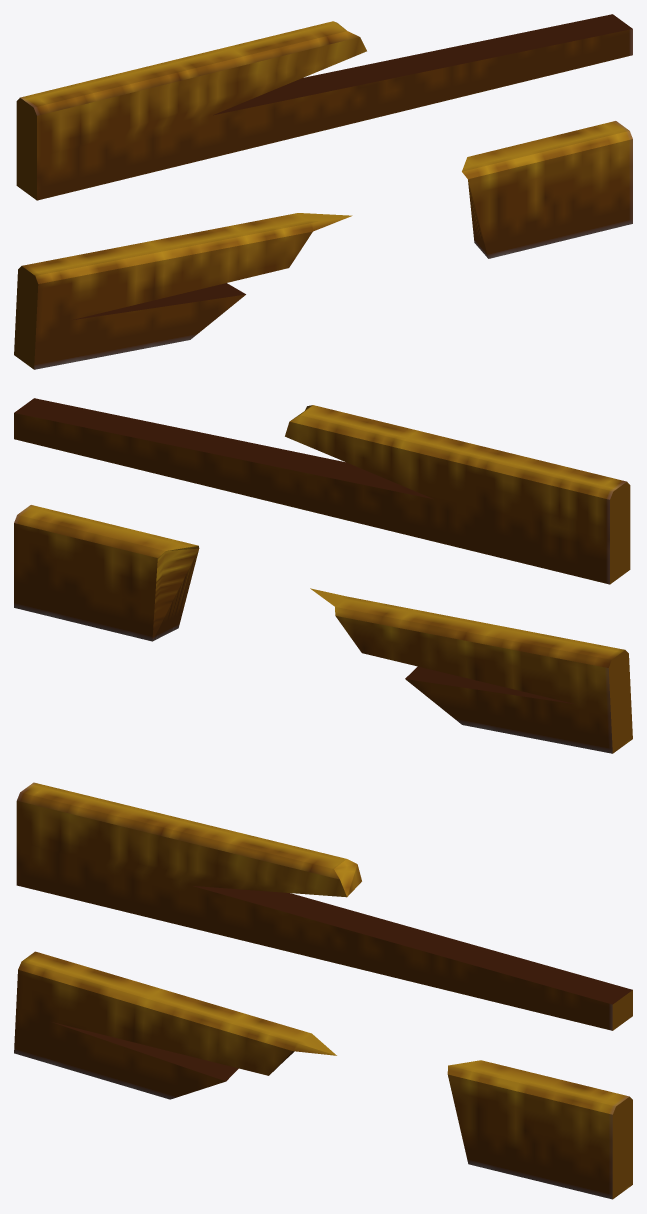
The model's file is fence_0421x07.obj.
3 renders of one model, top to bottom at view 1: azimuth 30°, elevation 25°; view 2: azimuth 150°, elevation 25°; view 3: azimuth 330°, elevation 25°, orthographic.
Visible parts, largest first — view 1: fenceboard_lightwood_long_broken; view 2: fenceboard_lightwood_long_broken; view 3: fenceboard_lightwood_long_broken.
Part boxes in pixels (x1,y1,x2,y2): fenceboard_lightwood_long_broken: (14,14,632,369); fenceboard_lightwood_long_broken: (14,398,632,753); fenceboard_lightwood_long_broken: (14,782,632,1199).
Size of the model in its own units: 4.37 by 1.86 by 0.2555.
